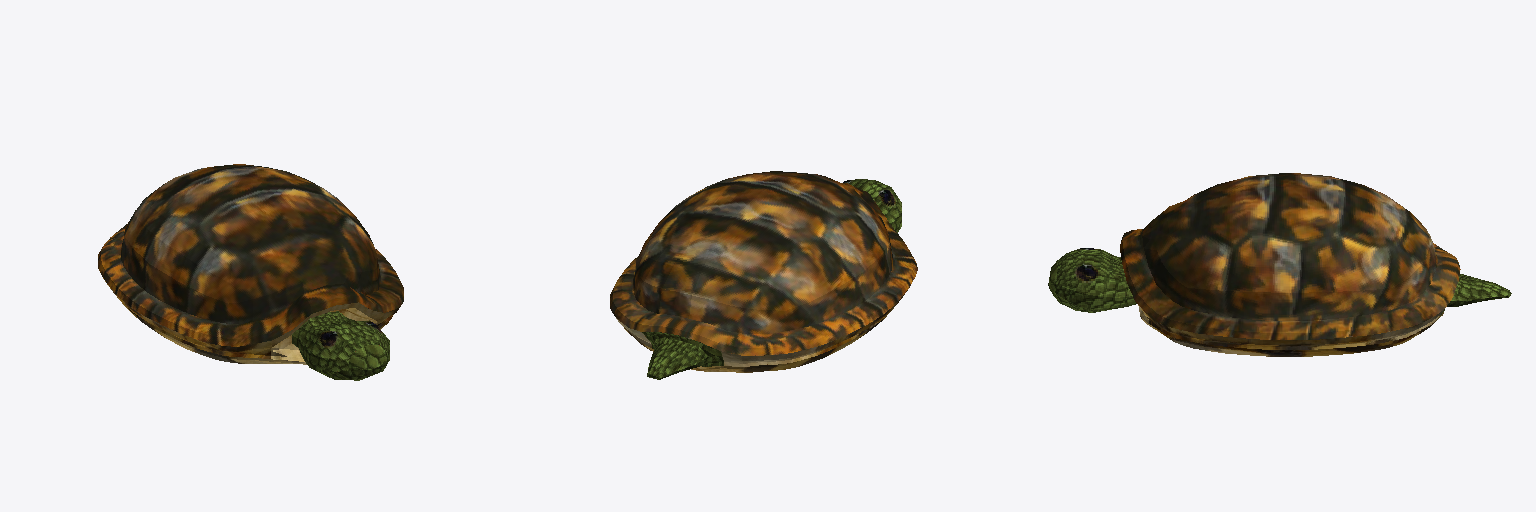
The picture shows the model from 3 angles: view 1: azimuth 30°, elevation 25°; view 2: azimuth 150°, elevation 25°; view 3: azimuth 270°, elevation 25°; orthographic projection.
Visible parts, largest first — view 1: Turtle; view 2: Turtle; view 3: Turtle.
Boxes of the visible parts, x1,y1,x2,y2 form: Turtle: [98, 164, 403, 380]; Turtle: [610, 171, 917, 379]; Turtle: [1048, 173, 1511, 356].
Bounding box in the file's own units: 1.85 × 1.01 × 3.09.
1 materials, 1 textured.